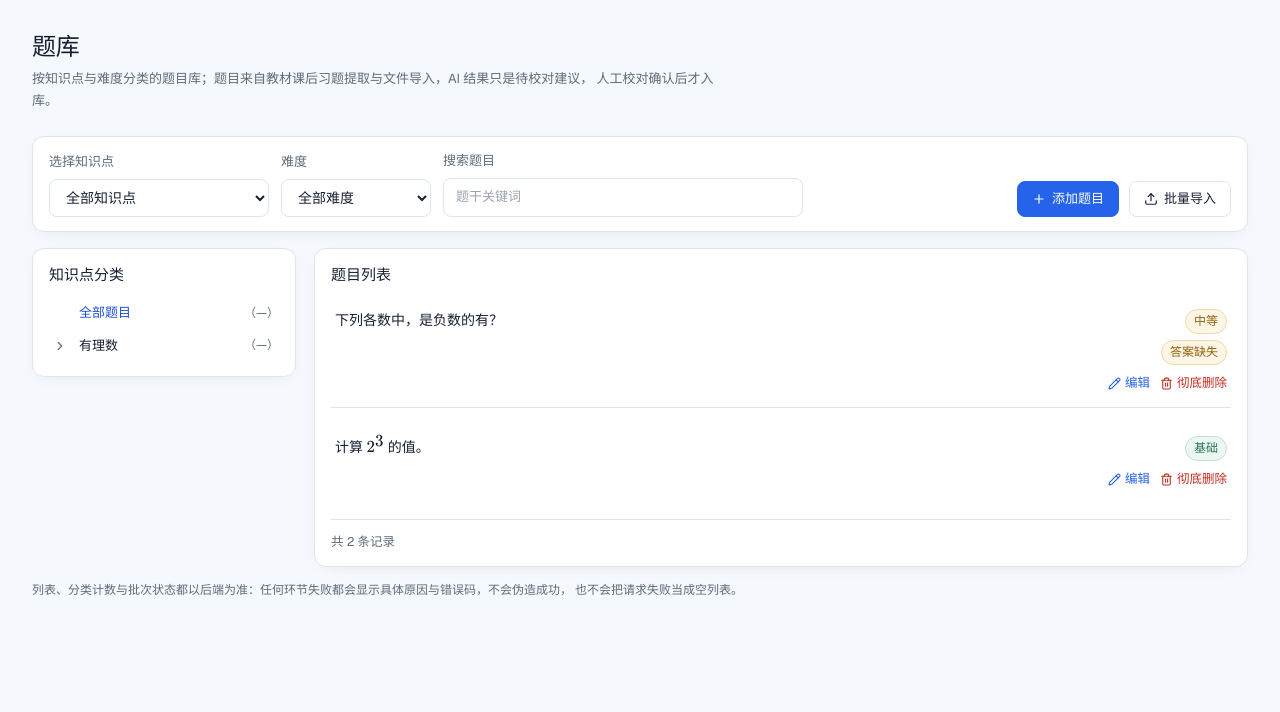
Test: 题库首页：题目行操作 › 409 QUESTION_IN_USE：展示练习/教案引用计数与解锁路径，不当作已删除
This screenshot has width=1280, height=712.
Expected: the text "下列各数中，是负数的有？" is shown, [335,311,503,329]
Click the button with aria-label "删除题目 下列各数中，是负数的有？" at point(1194, 383), box [1160,371,1227,395]
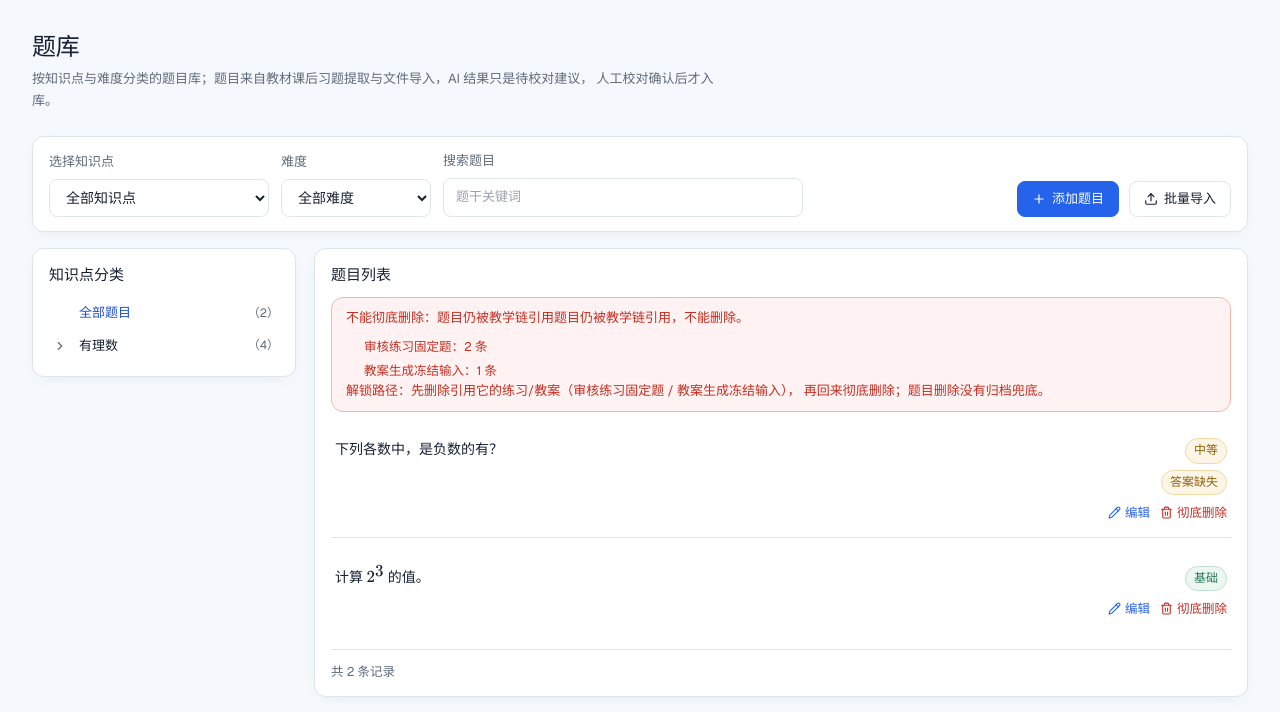
Now the message with test id "qb-question-delete-blocked" shows "审核练习固定题：2 条", box [331,297,1231,412]
Now the message with test id "qb-question-delete-blocked" shows "教案生成冻结输入：1 条", box [331,297,1231,412]
Now the message with test id "qb-question-delete-blocked" shows "先删除引用它的练习/教案", box [346,382,1051,399]
